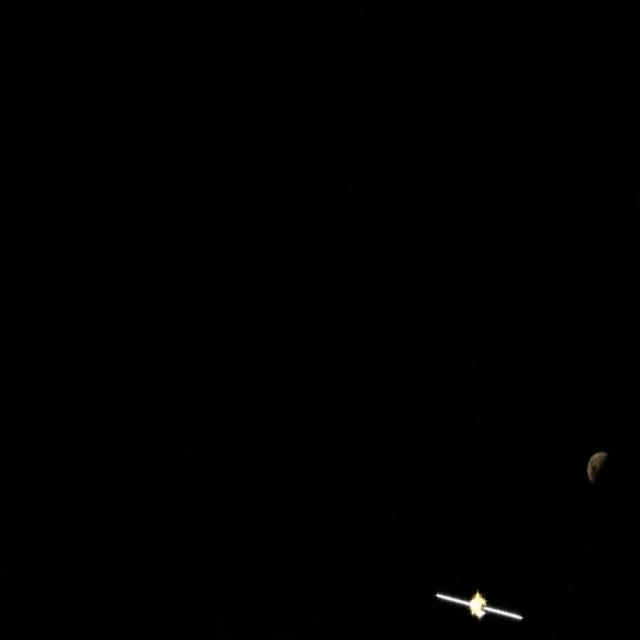medium_debris: (432, 581, 538, 640)
